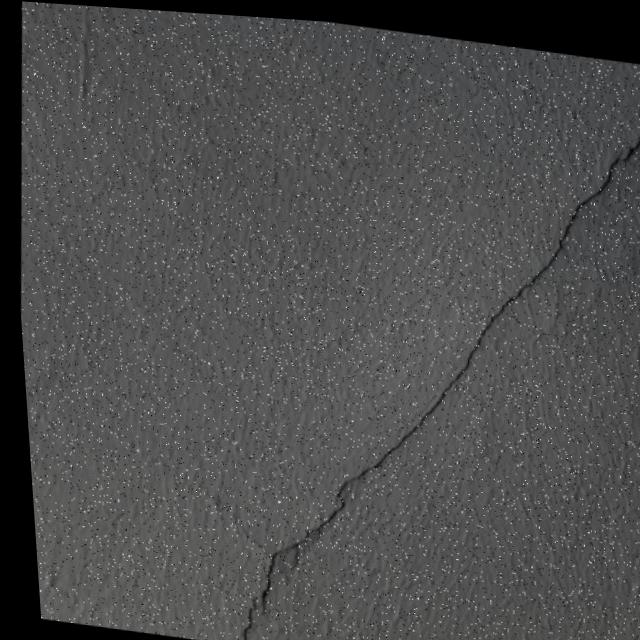Crack: (183, 42, 640, 640)
